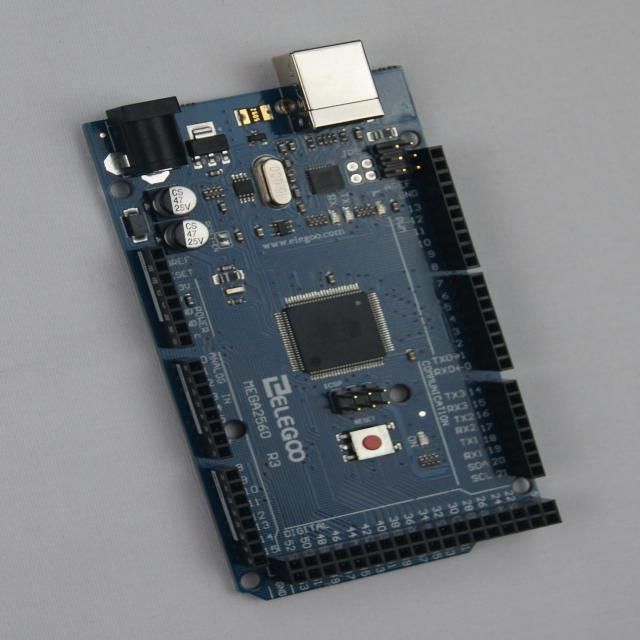Arduino Mega 2560 -Blue-: (83, 43, 561, 600)
